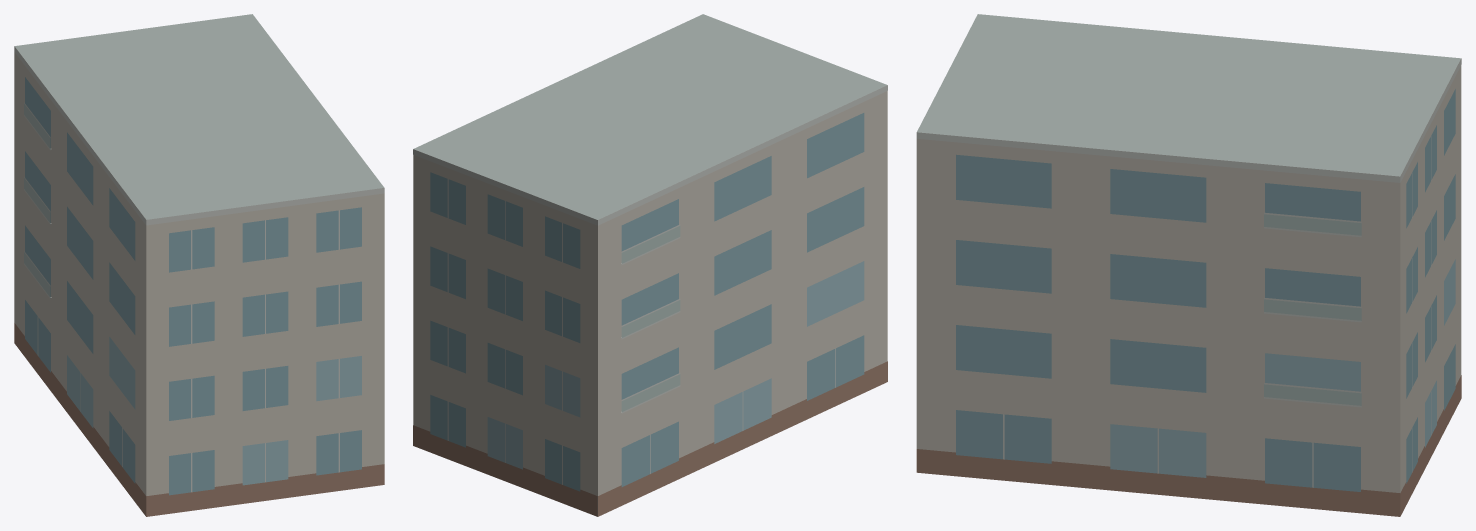
The model's file is survey-upis-32851605.glb.
3 views of the same model, side by side, from view 1: azimuth 30°, elevation 25°; view 2: azimuth 150°, elevation 25°; view 3: azimuth 270°, elevation 25° (orthographic). The views are drawn at different scales.
Parts seen in each view (by area): view 1: survey-upis-32851605.tmp; view 2: survey-upis-32851605.tmp; view 3: survey-upis-32851605.tmp.
Part boxes in pixels (<box>): survey-upis-32851605.tmp: <box>14,14,384,516</box>; survey-upis-32851605.tmp: <box>413,14,887,516</box>; survey-upis-32851605.tmp: <box>916,14,1461,516</box>.
Bounding box in the file's own units: 13.22 × 12.9 × 18.72.
